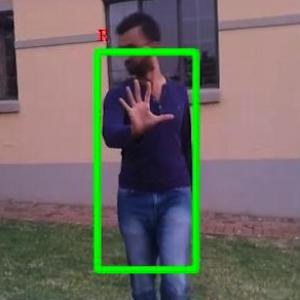follow_hand: (113, 72, 176, 140)
